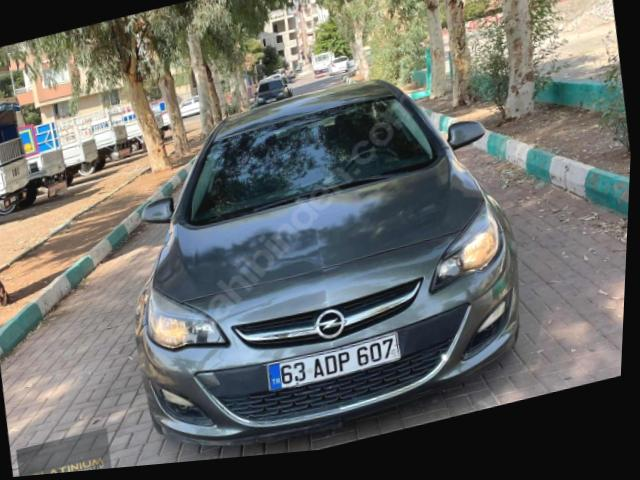plaka: (266, 332, 400, 391)
